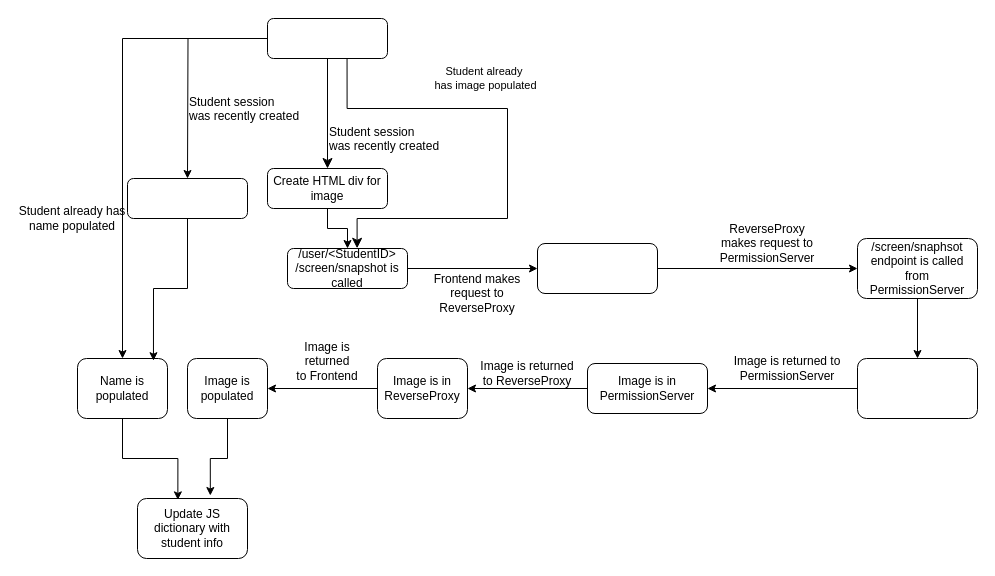
This 995x576 diagram has some shape labels left out. Here are the shapes that lost their labels. From the top down, the centre of each, then its label:
At (327,38): "/session enpoint is called every 5 seconds".
At (187,198): "Create HTML div for name".
At (597,268): "/screen/snaphsot endpoint is called from ReverseProxy".
At (917,388): "Snapshot is taken from VNC".
